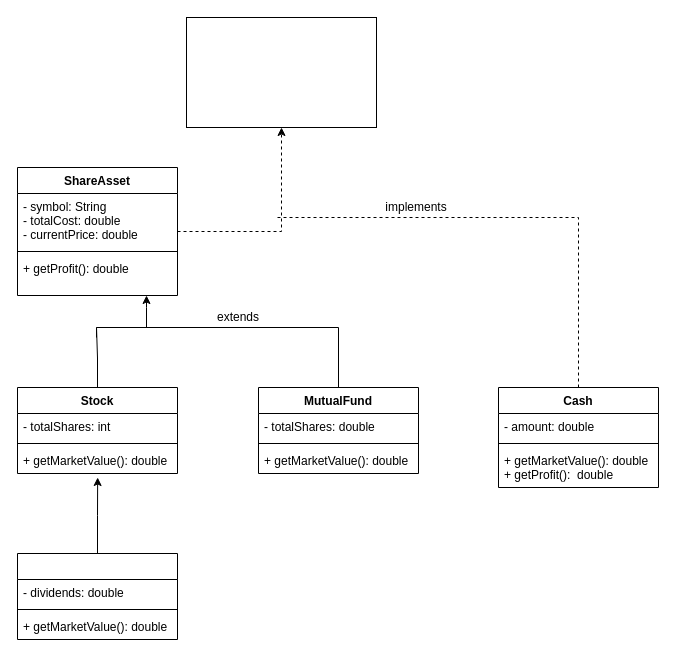
This 676x660 diagram has some shape labels left out. The shapes that lost their labels are listed below. From the top down, each one's box as (x1, y1, x2, y2) in pixels, then its label:
(186, 16, 376, 128): <<Interface>> Asset + getMarketValue(): double + getProfit(): double
(16, 552, 178, 640): DividendStock
